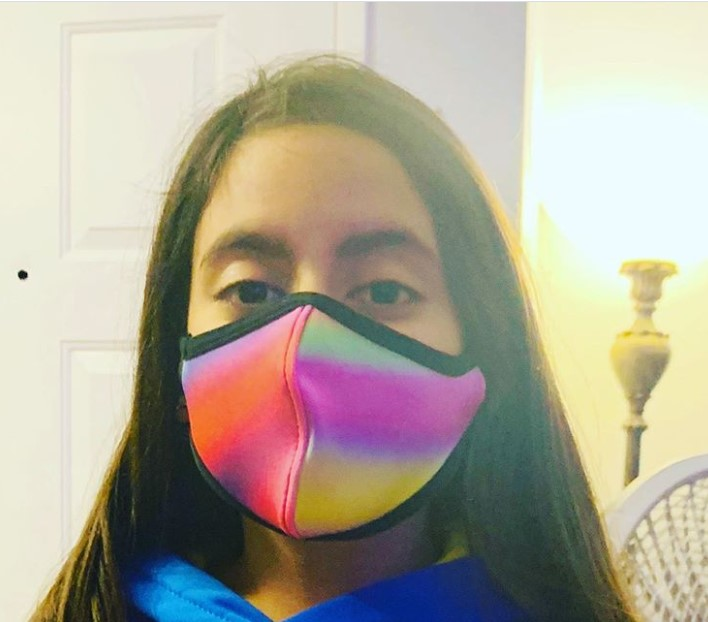face_with_mask: (174, 77, 487, 547)
